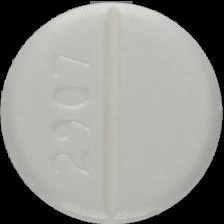76237-162: (0, 0, 224, 224)
